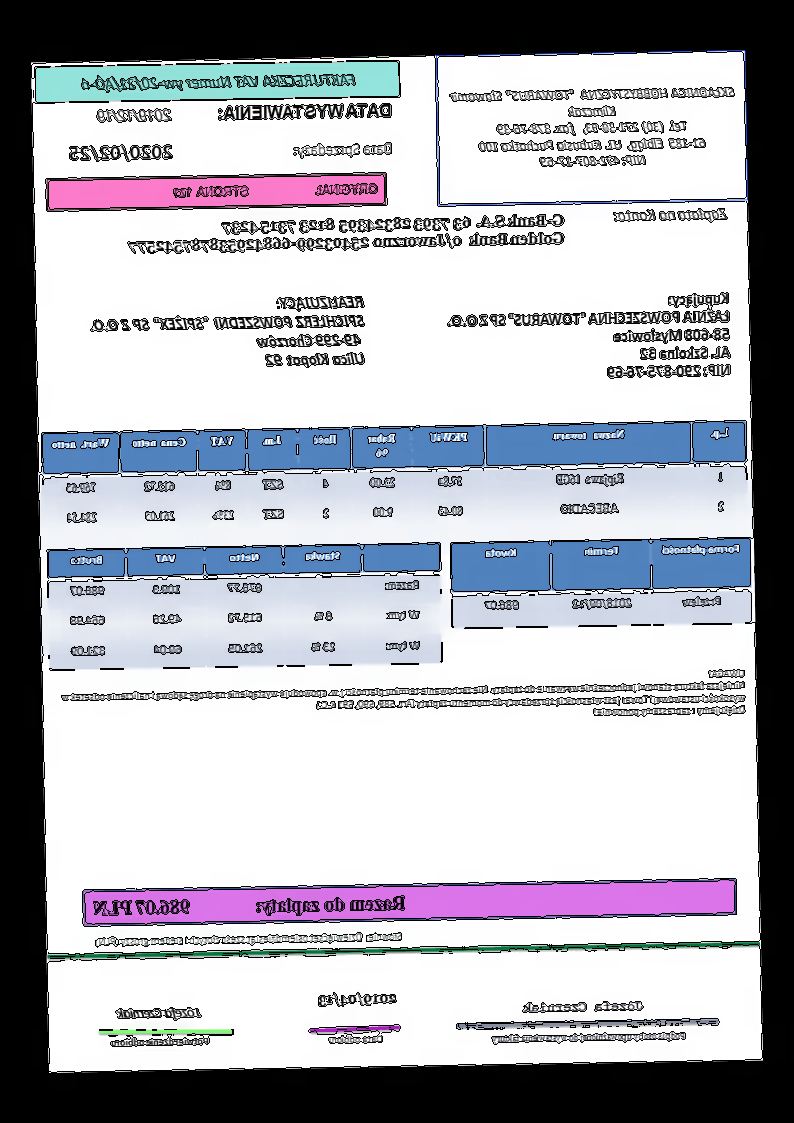Table: (42, 417, 749, 539), (45, 541, 443, 672), (451, 536, 754, 631)
TextBox: (59, 665, 748, 730), (445, 288, 733, 383), (445, 82, 741, 172), (87, 292, 368, 374), (125, 209, 567, 259), (92, 890, 409, 920), (77, 67, 360, 96), (91, 927, 405, 951), (169, 178, 382, 201), (215, 98, 395, 124), (490, 1028, 688, 1045), (67, 139, 176, 164), (292, 137, 394, 161), (613, 203, 729, 223), (522, 998, 646, 1014), (93, 103, 175, 126), (317, 989, 400, 1011), (114, 1002, 205, 1022), (107, 1033, 212, 1050), (326, 1031, 387, 1046)
